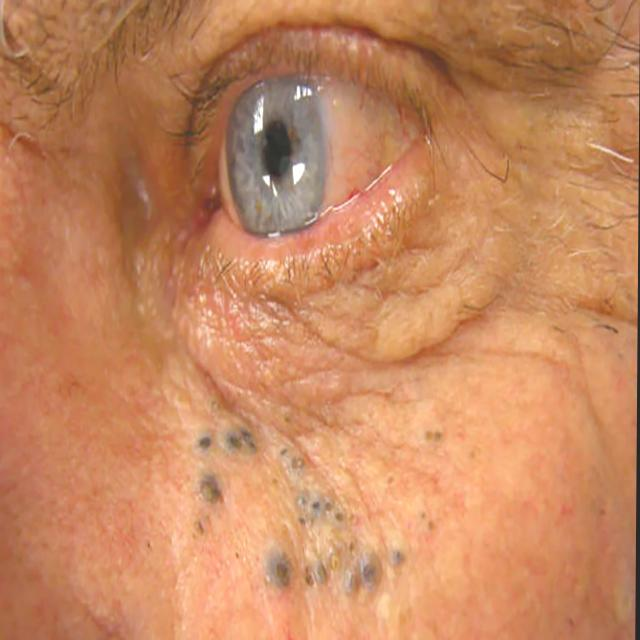dark spot: (193, 466, 231, 525), (262, 550, 296, 598), (358, 544, 386, 592), (302, 553, 328, 597), (219, 426, 245, 469), (341, 560, 363, 604), (192, 426, 218, 461), (309, 496, 328, 524)
